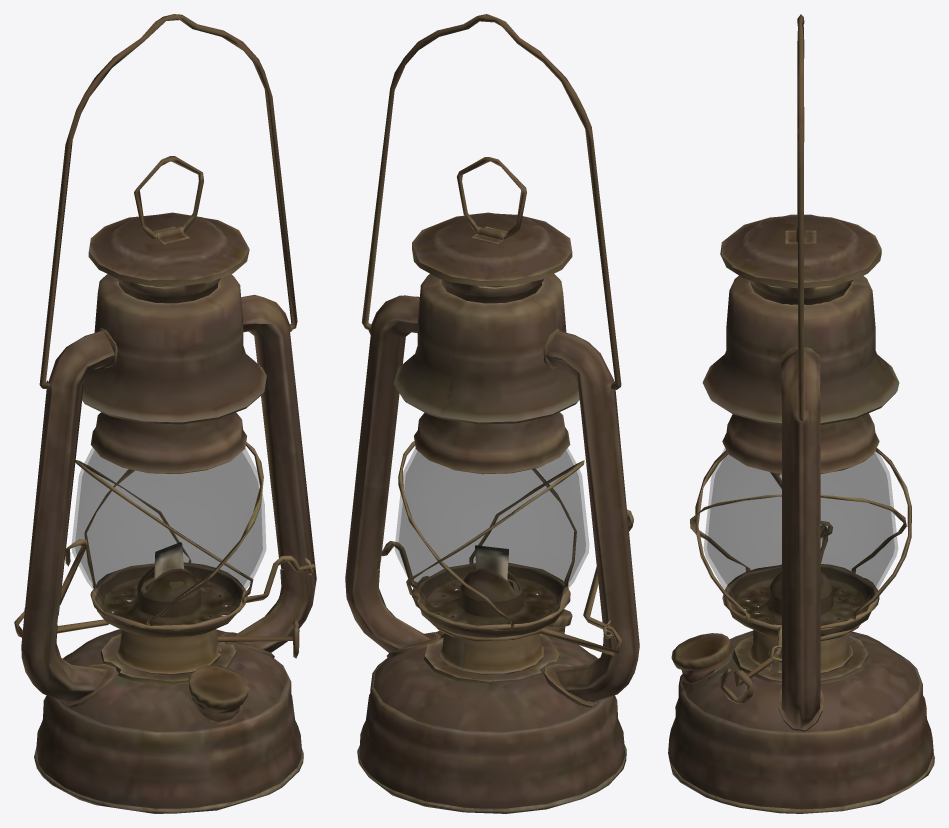
The model's file is lantern.glb.
3 renders of one model, left to right at view 1: azimuth 30°, elevation 25°; view 2: azimuth 150°, elevation 25°; view 3: azimuth 270°, elevation 25°, orthographic.
Parts seen in each view (by area): view 1: Lantern_01, Lantern_01_glass; view 2: Lantern_01, Lantern_01_glass; view 3: Lantern_01, Lantern_01_glass.
Boxes of the visible parts, left/top/right/bottom form: Lantern_01: left=14, top=14, right=316, bottom=813; Lantern_01_glass: left=72, top=447, right=265, bottom=625; Lantern_01: left=345, top=14, right=639, bottom=813; Lantern_01_glass: left=395, top=448, right=588, bottom=624; Lantern_01: left=668, top=14, right=934, bottom=813; Lantern_01_glass: left=704, top=448, right=897, bottom=625.
Bounding box in the file's own units: 0.1219 × 0.2939 × 0.096.
Materials: 2 (2 with a texture image).
